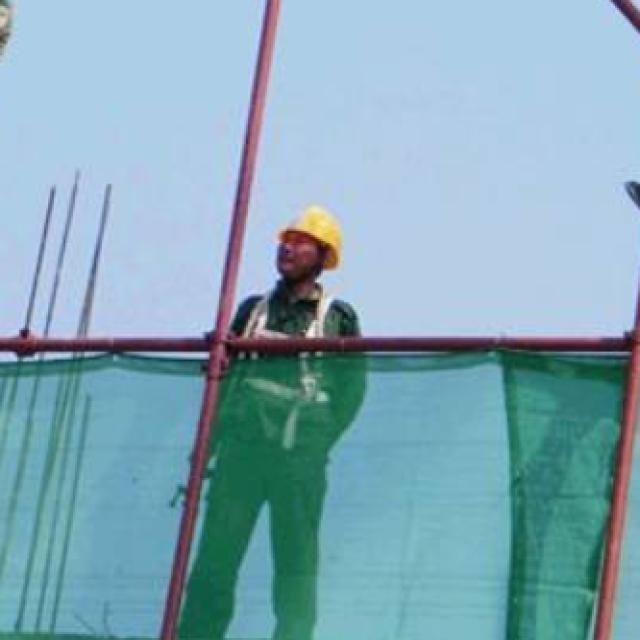Arnes_seguridad: (231, 273, 346, 405)
